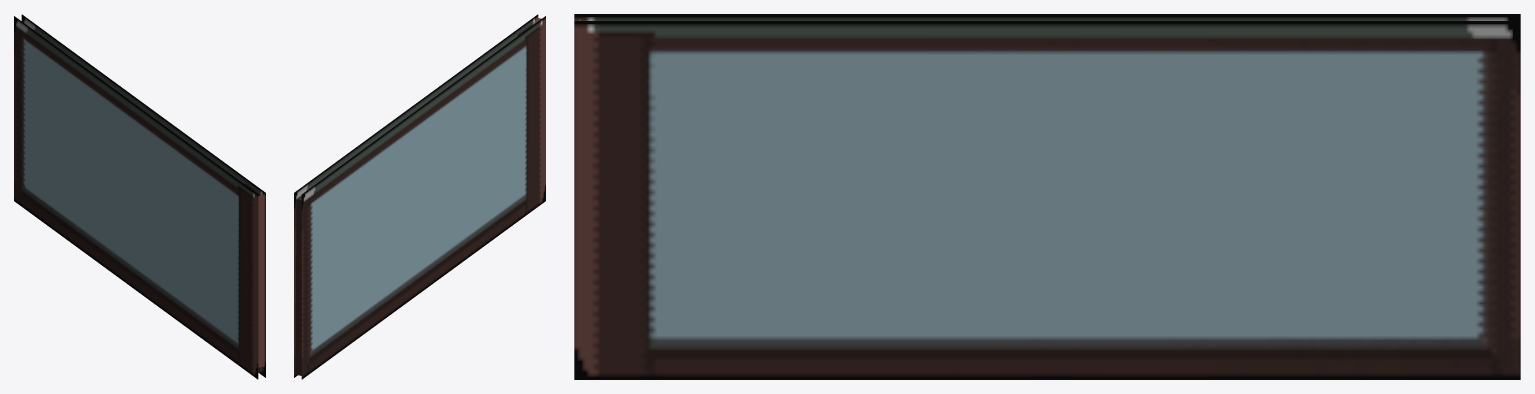
Rendered from pz_native_fixtures_doors_01_106_frame.obj.
3 views of the same model, side by side, from view 1: azimuth 30°, elevation 25°; view 2: azimuth 150°, elevation 25°; view 3: azimuth 270°, elevation 25° (orthographic). The views are drawn at different scales.
Parts seen in each view (by area): view 1: pz_native_fixtures_doors_01_106_frame; view 2: pz_native_fixtures_doors_01_106_frame; view 3: pz_native_fixtures_doors_01_106_frame.
Part boxes in pixels (left/top/right/bottom): pz_native_fixtures_doors_01_106_frame: left=14, top=14, right=265, bottom=379; pz_native_fixtures_doors_01_106_frame: left=294, top=14, right=545, bottom=379; pz_native_fixtures_doors_01_106_frame: left=574, top=14, right=1520, bottom=379.
Size of the model in its own units: 0.045 by 1.06 by 2.54.
Materials: 1 (1 with a texture image).
